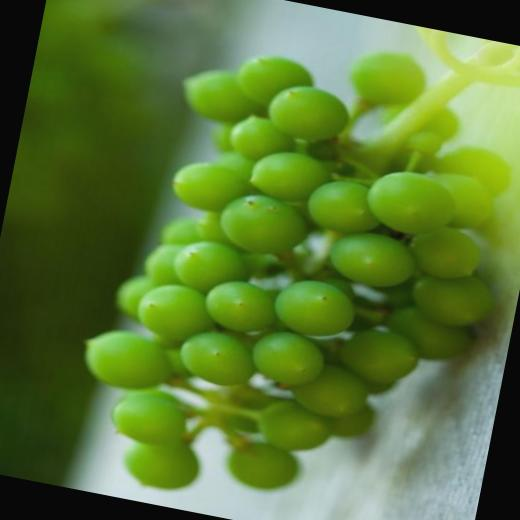Orange: (62, 2, 520, 520)
